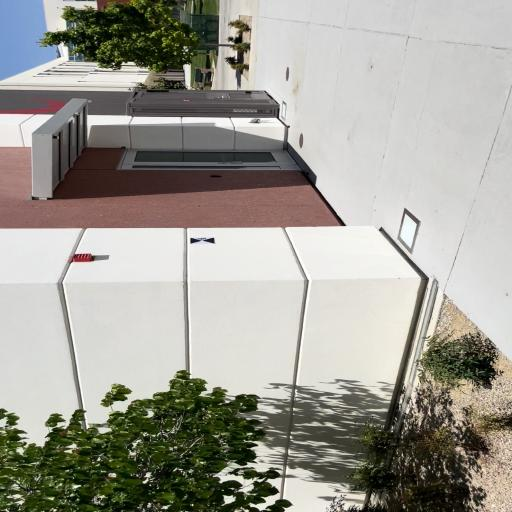target6: (190, 237, 215, 244)
